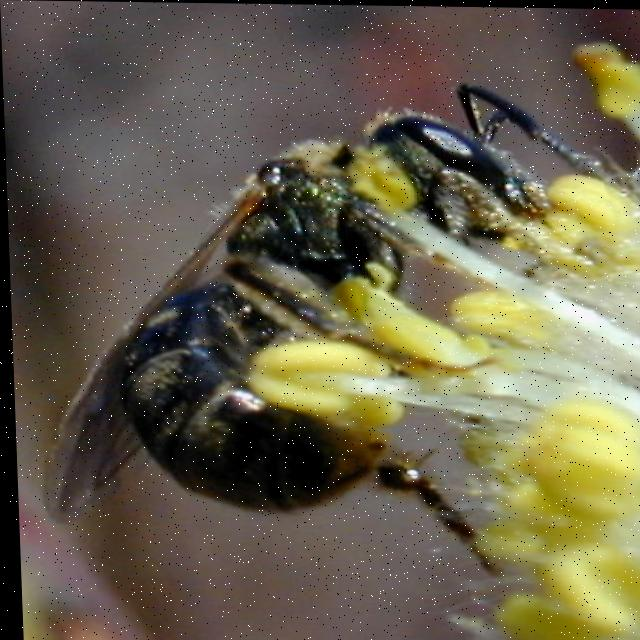Lasioglossum: (18, 76, 615, 588)
